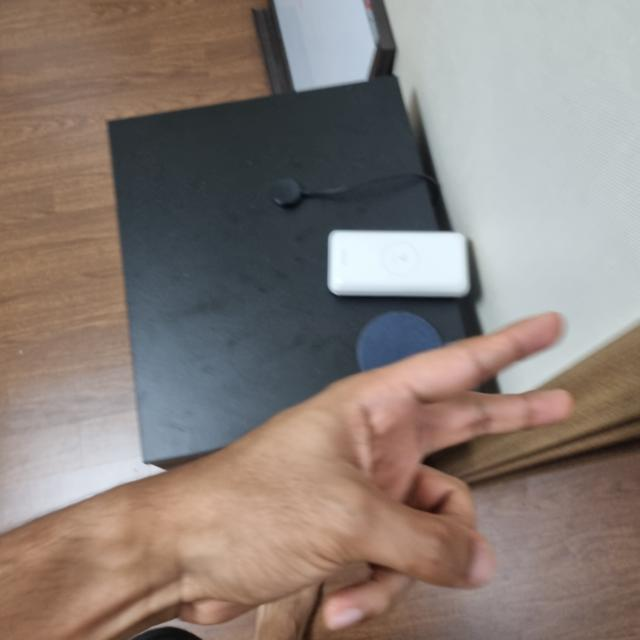Scissors: (132, 317, 572, 632)
